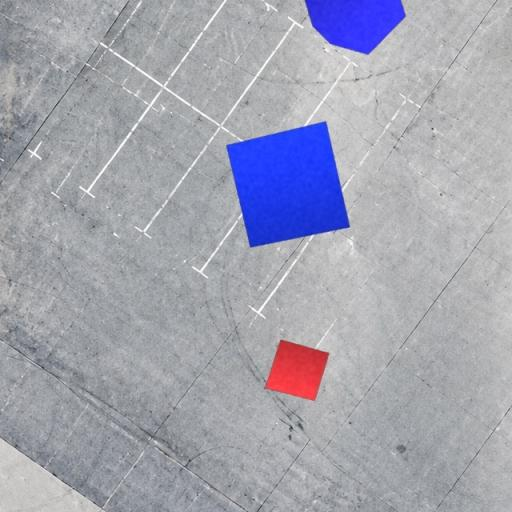BLUE_SQUARE: (226, 121, 351, 248)
RED_SQUARE: (264, 339, 330, 402)
